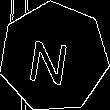N_N: (31, 29, 77, 85)
